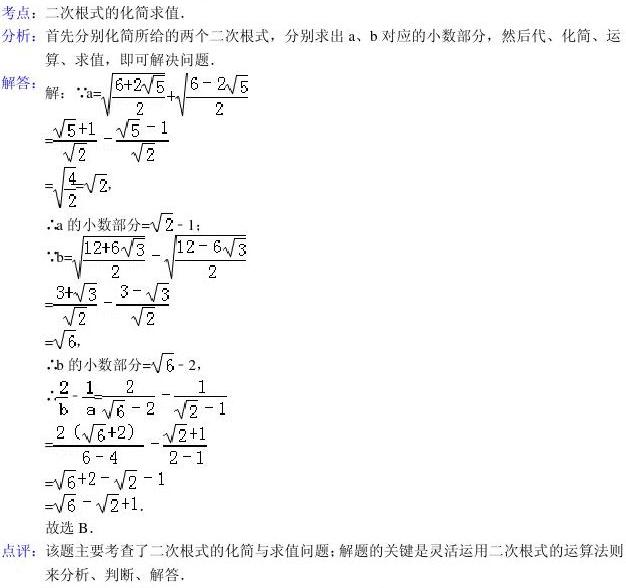division: (53, 440, 143, 452), (82, 253, 147, 267), (173, 256, 248, 266), (172, 391, 226, 403), (111, 92, 169, 102), (183, 94, 250, 102), (53, 298, 94, 311), (45, 137, 99, 146), (116, 300, 169, 309), (114, 137, 172, 145), (160, 443, 212, 451), (104, 392, 154, 400), (80, 395, 94, 401), (56, 395, 67, 401), (65, 185, 74, 192)
sqrt: (162, 232, 257, 281), (178, 68, 265, 116), (70, 228, 148, 280), (100, 70, 168, 116), (53, 163, 78, 210), (376, 423, 412, 453), (63, 135, 95, 166), (129, 138, 161, 168), (151, 207, 181, 235), (49, 116, 81, 141), (56, 327, 84, 355), (114, 114, 145, 139), (62, 304, 93, 327), (133, 301, 160, 327), (163, 422, 190, 448), (123, 234, 148, 261), (153, 348, 176, 377), (146, 278, 173, 302), (53, 471, 81, 493), (142, 71, 167, 95), (115, 470, 142, 492), (56, 492, 83, 514), (229, 73, 254, 96), (74, 282, 100, 303), (180, 401, 204, 422), (100, 492, 120, 517), (82, 172, 107, 191), (108, 397, 127, 420), (86, 422, 106, 443)
